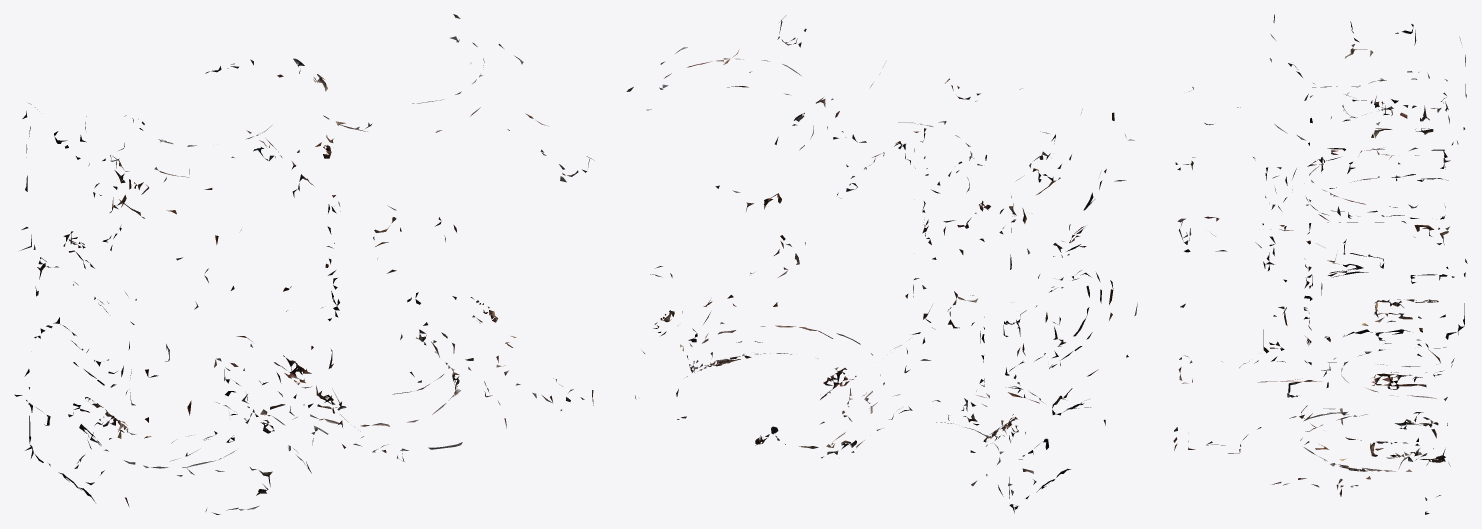
The picture shows the model from 3 angles, left to right: view 1: azimuth 30°, elevation 25°; view 2: azimuth 150°, elevation 25°; view 3: azimuth 270°, elevation 25°; orthographic projection. The views are drawn at different scales.
Bounding box in the file's own units: 12.43 × 9.78 × 8.22.
Materials: 1 (1 with a texture image).
